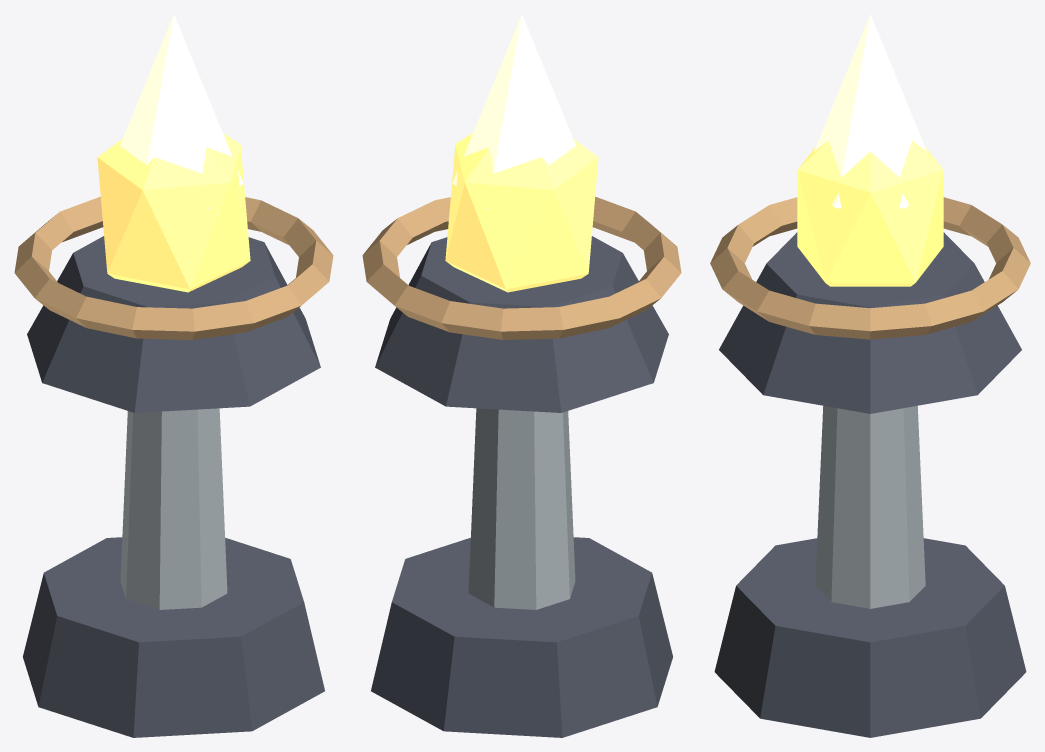
Rendered from brazier.glb.
3 views of the same model, side by side, from view 1: azimuth 30°, elevation 25°; view 2: azimuth 150°, elevation 25°; view 3: azimuth 270°, elevation 25° (orthographic).
Parts seen in each view (by area): view 1: Iron foot, Fire bowl, Stem, Fire low, Bowl rim, Fire tip; view 2: Iron foot, Fire bowl, Stem, Fire low, Bowl rim, Fire tip; view 3: Iron foot, Fire bowl, Stem, Fire low, Bowl rim, Fire tip.
Part boxes in pixels (x1,y1,x2,y2): Iron foot: (23,537,324,737); Fire bowl: (27,236,320,412); Stem: (120,408,227,609); Fire low: (97,133,250,292); Bowl rim: (14,196,333,339); Fire tip: (120,14,243,208); Iron foot: (371,537,672,737); Fire bowl: (375,236,668,412); Stem: (468,408,575,609); Fire low: (445,133,598,292); Bowl rim: (362,196,681,339); Fire tip: (452,14,575,208); Iron foot: (714,538,1026,737); Fire bowl: (719,232,1021,413); Stem: (815,406,925,608); Fire low: (797,140,943,286); Bowl rim: (710,197,1030,339); Fire tip: (814,14,926,208).
Bounding box in the file's own units: 0.74 × 1.68 × 0.74.
